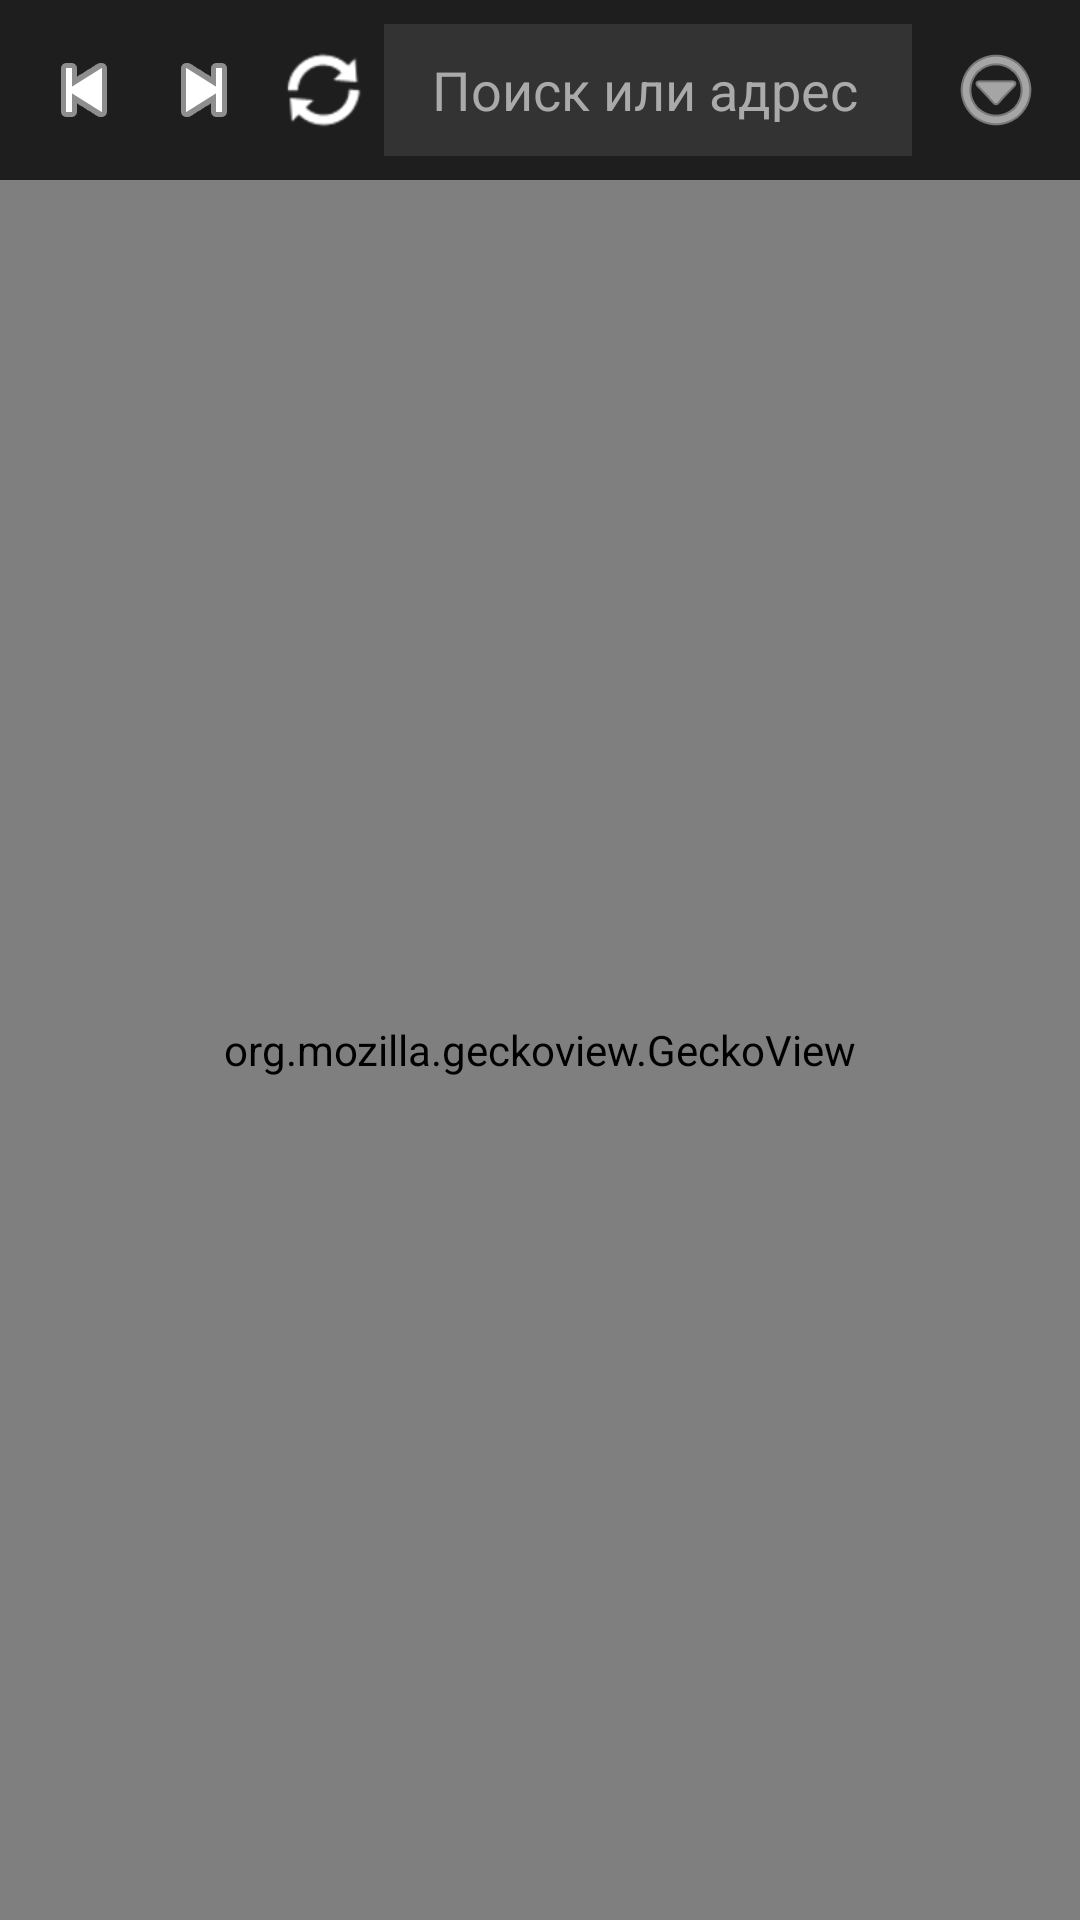

Named icons in this screenshot (1080×1920) and their bounding boxes, (x1, y1, x2, y2):
next: (181, 63, 227, 117)
popup sync: (287, 54, 361, 126)
previous: (61, 63, 107, 117)
